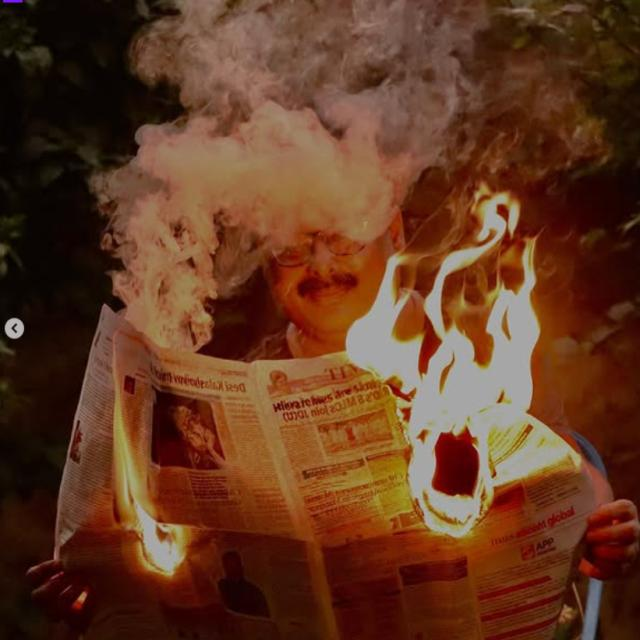fire: (396, 235, 539, 537), (424, 179, 519, 343), (115, 401, 193, 578), (345, 251, 422, 410)
